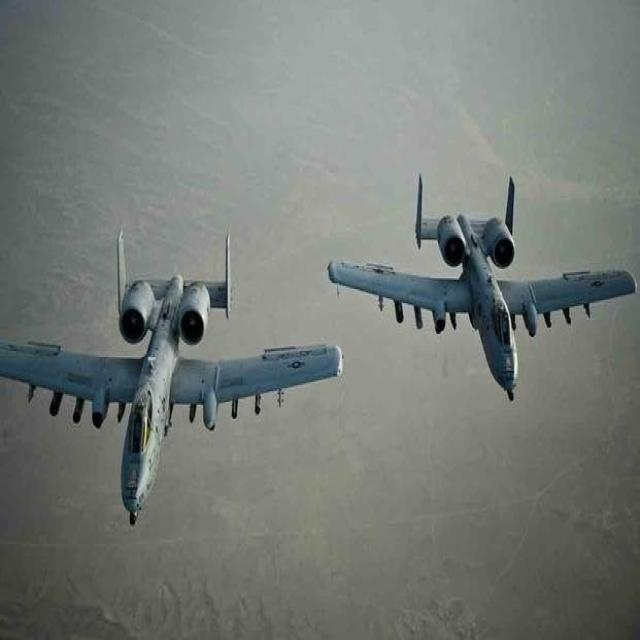B1: (5, 141, 348, 518), (317, 72, 640, 430)
